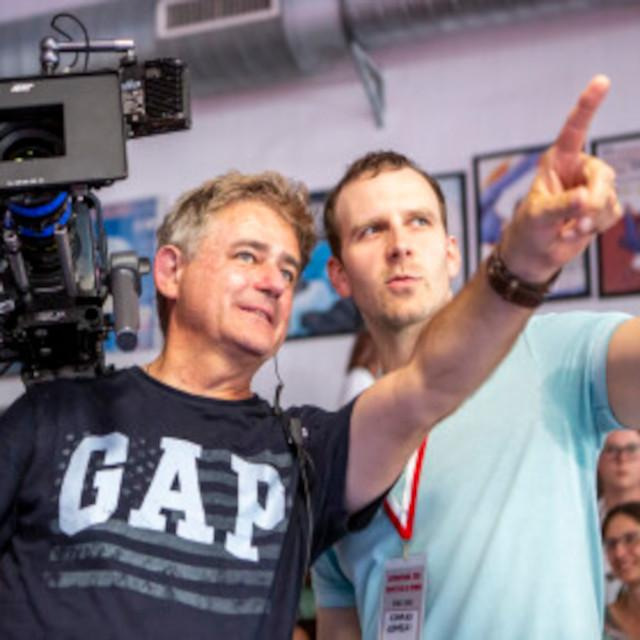mezczyzna: (320, 147, 640, 640), (0, 173, 308, 639)
